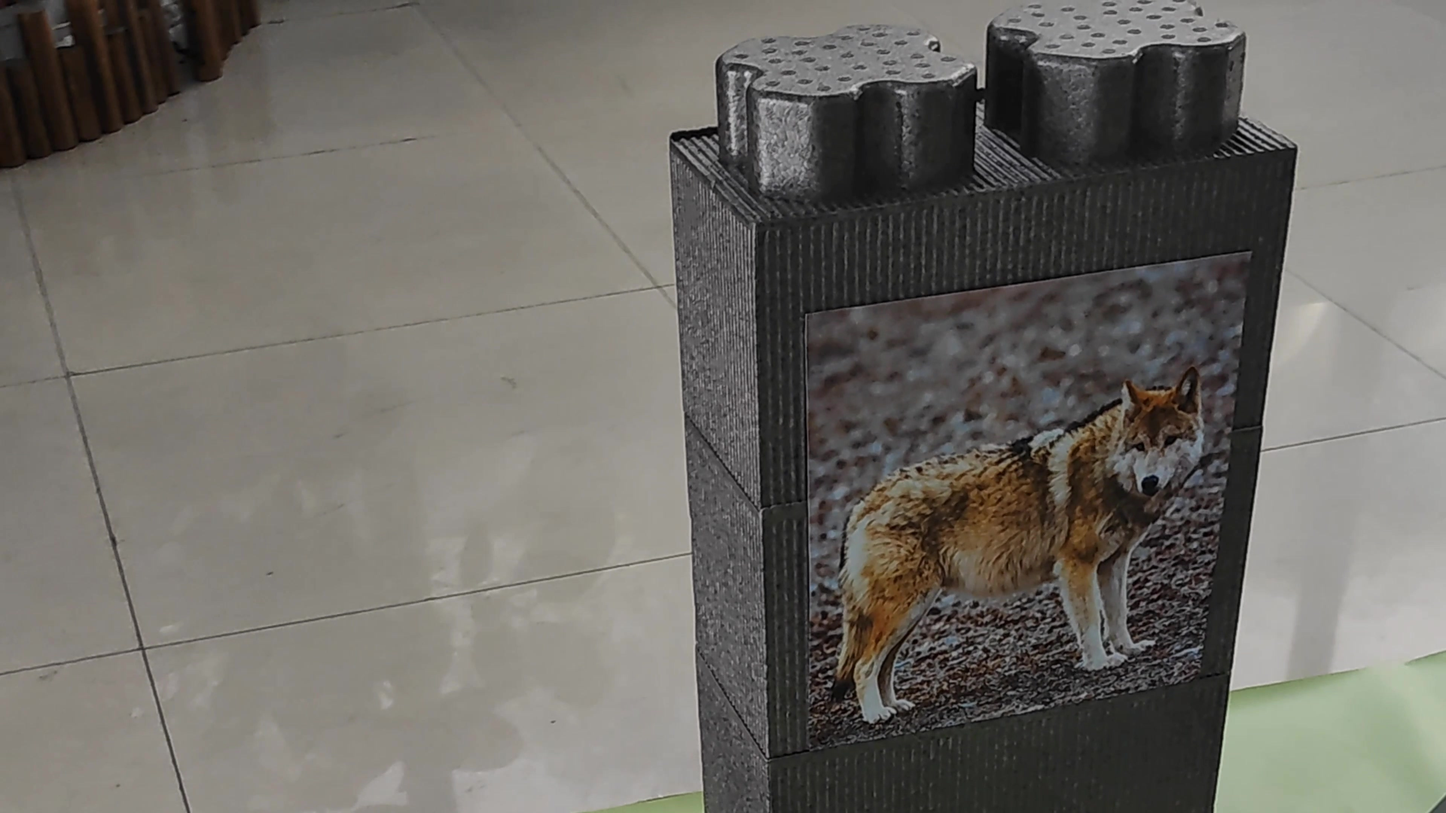wolf: (808, 344, 1203, 716)
